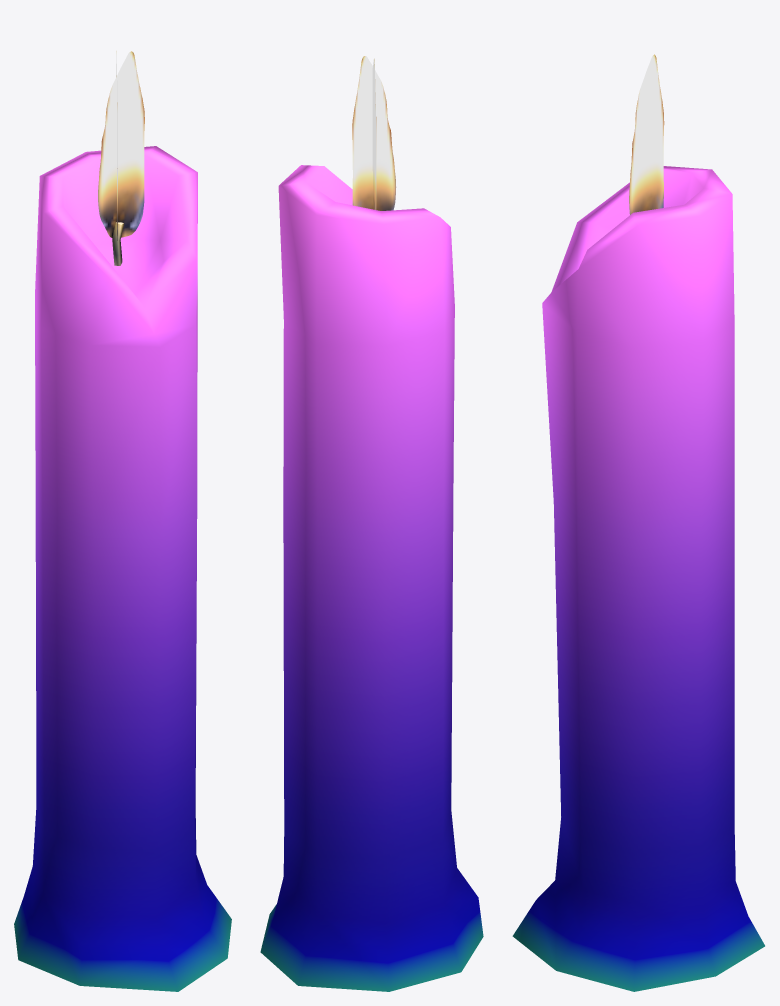
The model's file is CandleShapeA.023.glb.
3 renders of one model, left to right at view 1: azimuth 30°, elevation 25°; view 2: azimuth 150°, elevation 25°; view 3: azimuth 270°, elevation 25°, orthographic.
Parts seen in each view (by area): view 1: CandleShapeA.023; view 2: CandleShapeA.023; view 3: CandleShapeA.023.
Part boxes in pixels (left/top/right/bottom): CandleShapeA.023: left=14, top=51, right=231, bottom=991; CandleShapeA.023: left=260, top=56, right=483, bottom=991; CandleShapeA.023: left=512, top=54, right=764, bottom=991.
Bounding box in the file's own units: 0.0814 × 0.3472 × 0.0887.
Materials: 2 (2 with a texture image).
